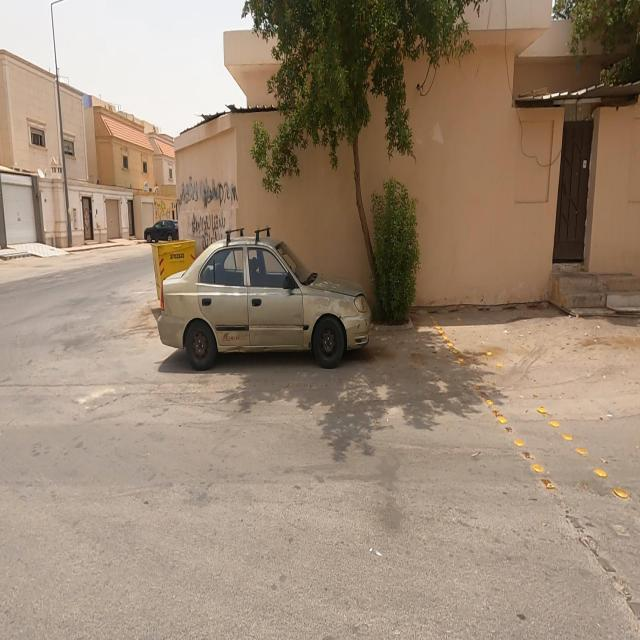debris: (123, 147, 277, 229), (164, 182, 255, 286)
